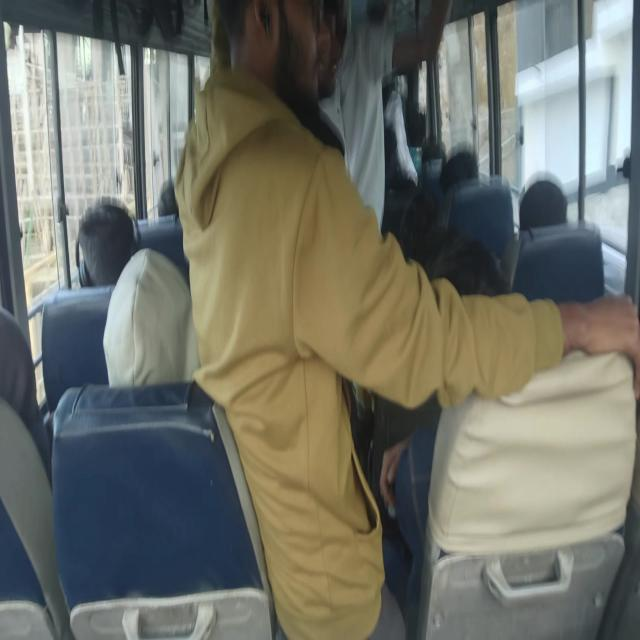person: (173, 0, 639, 638), (76, 201, 138, 288)
